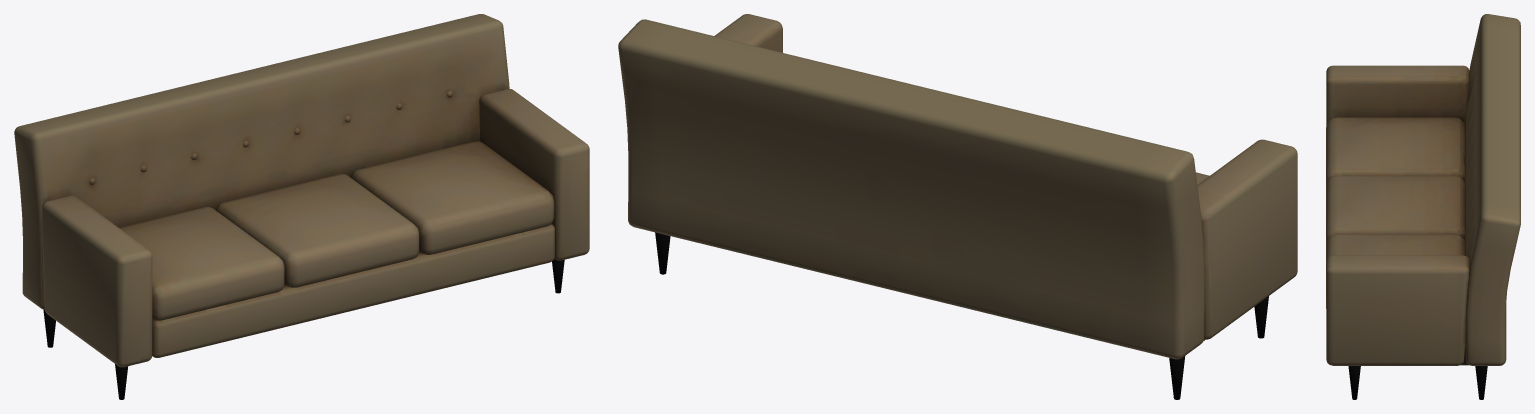
Rendered from couch.fbx.
3 renders of one model, left to right at view 1: azimuth 30°, elevation 25°; view 2: azimuth 150°, elevation 25°; view 3: azimuth 270°, elevation 25°, orthographic. The views are drawn at different scales.
Visible parts, largest first — view 1: Couch; view 2: Couch; view 3: Couch.
Part boxes in pixels (x1=…): Couch: x1=14, y1=14, x2=589, y2=399; Couch: x1=618, y1=14, x2=1297, y2=399; Couch: x1=1326, y1=14, x2=1520, y2=399.
Size of the model in its own units: 14.8 by 6.4 by 5.93.
1 material, 1 textured.
